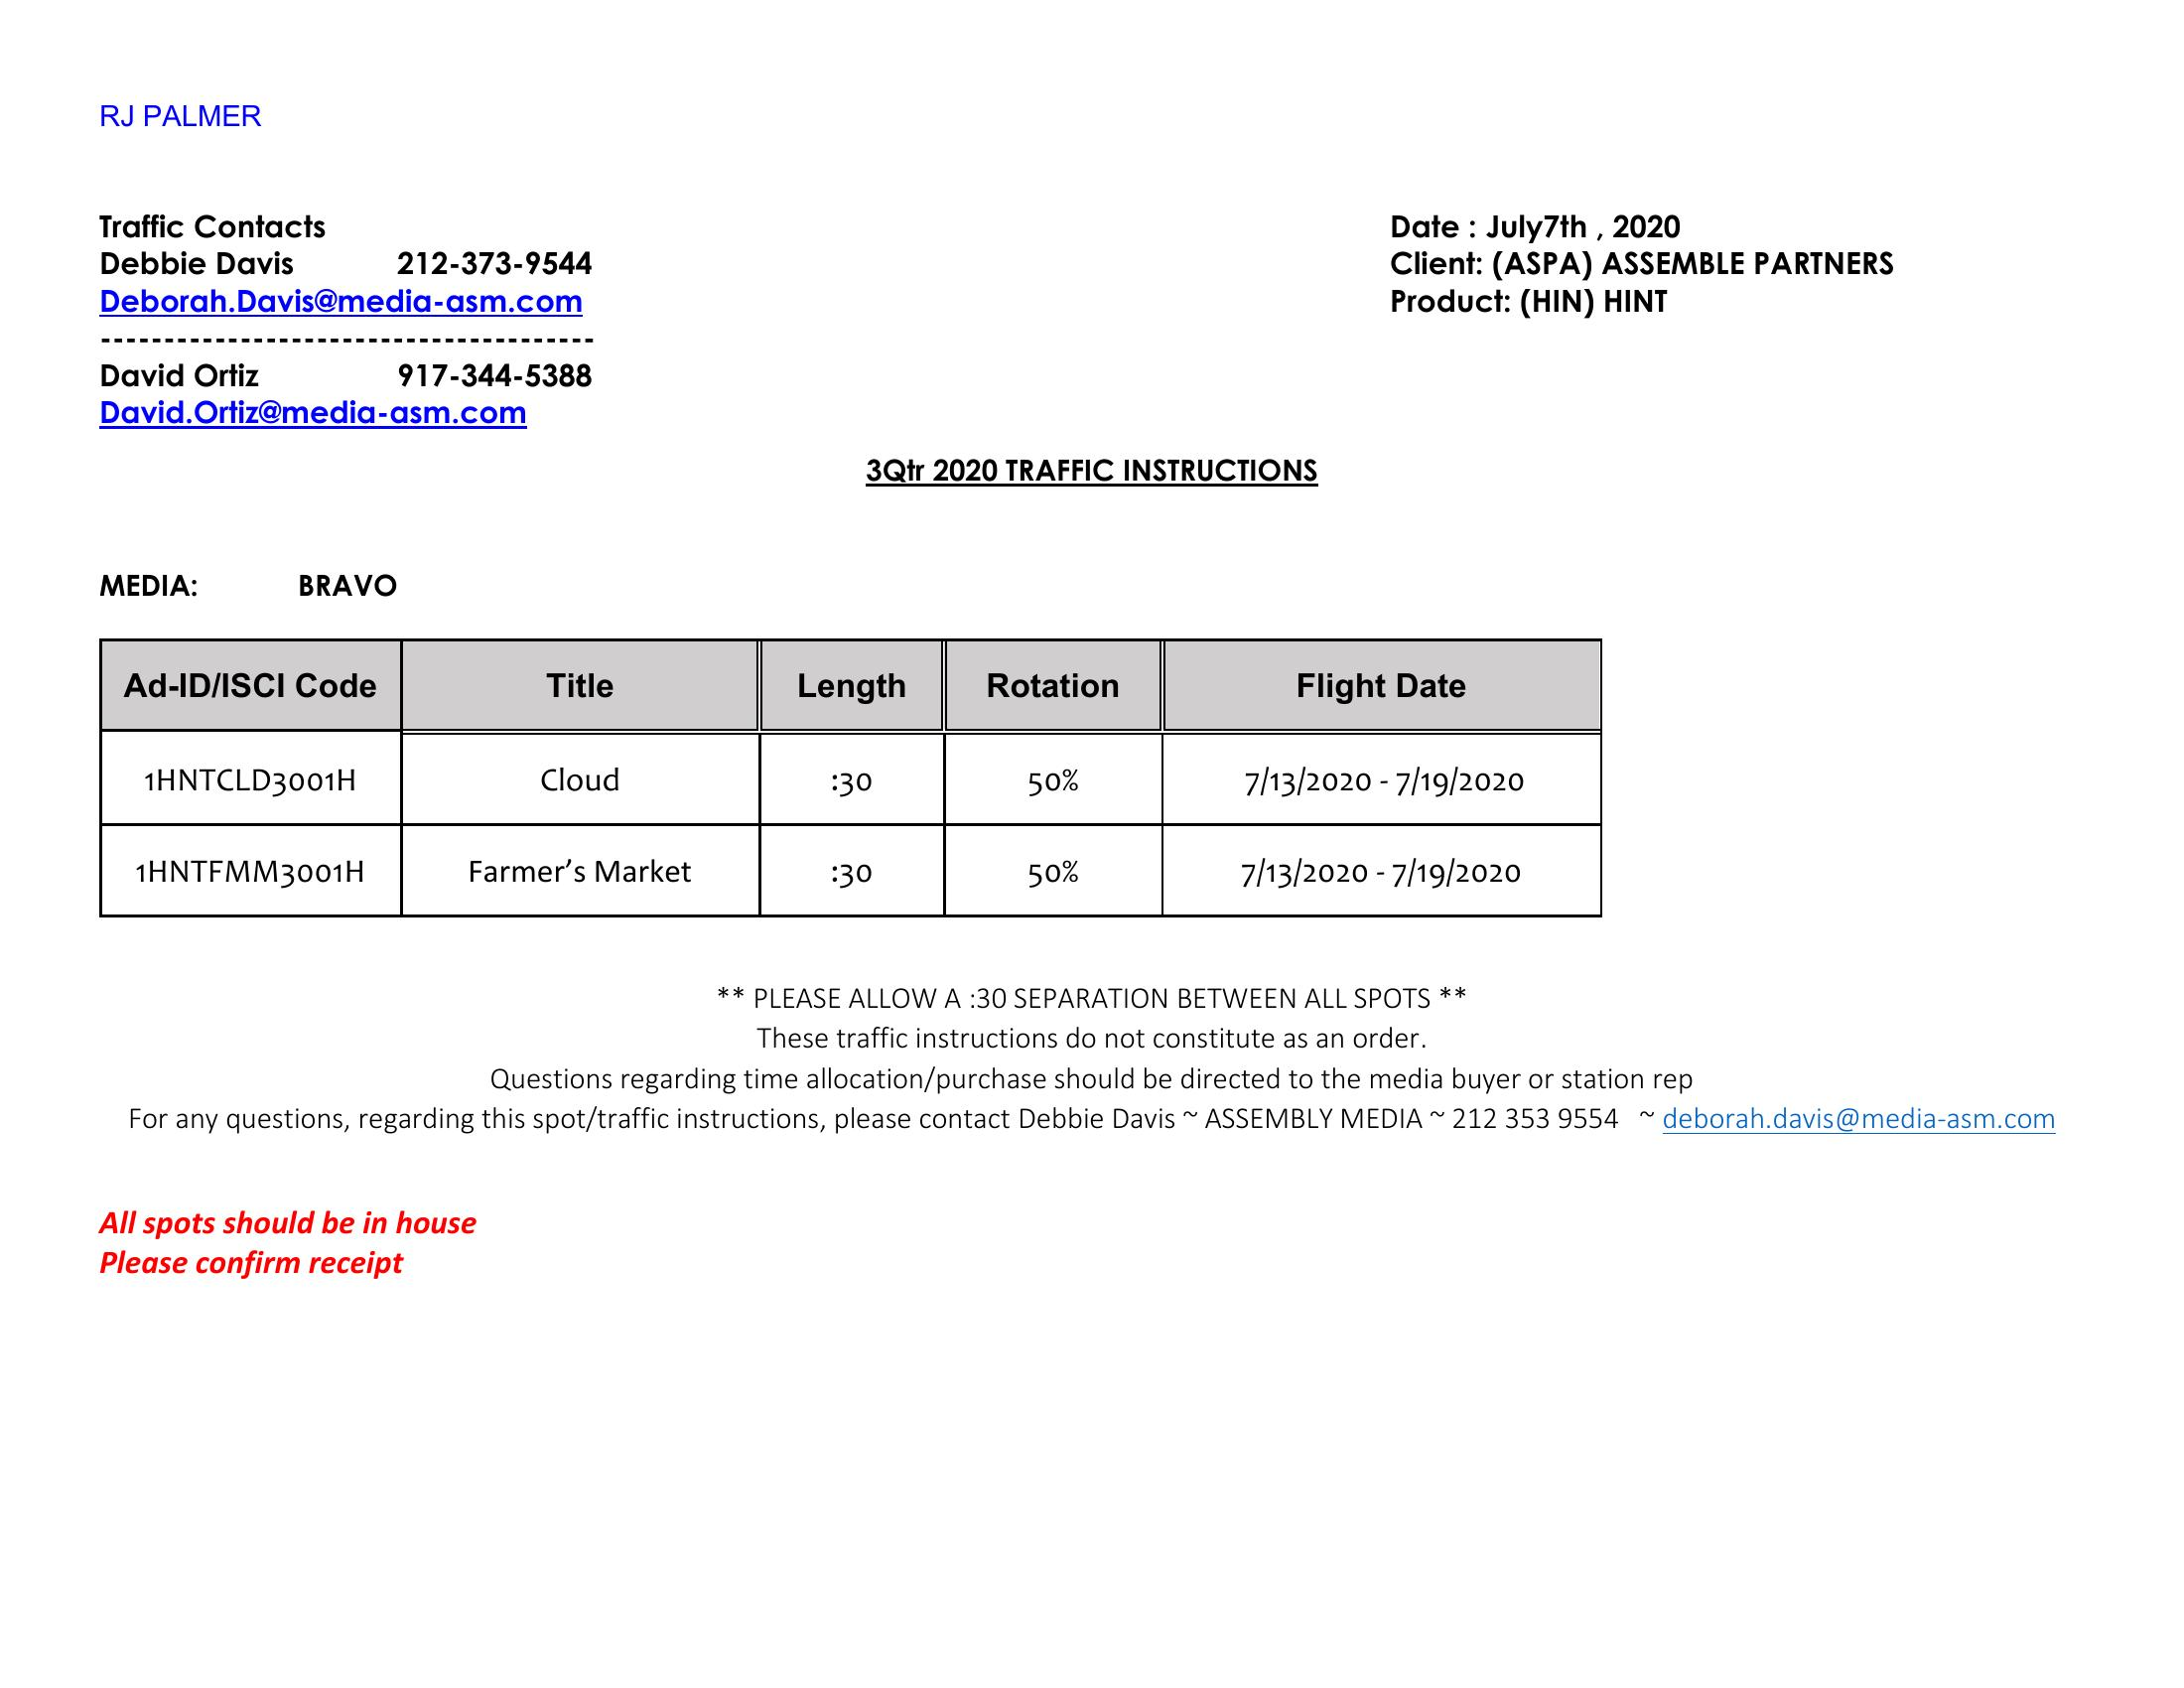table: (85, 619, 1633, 940)
